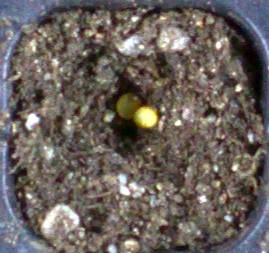pepper seed: (53, 40, 212, 170), (44, 32, 187, 152)
